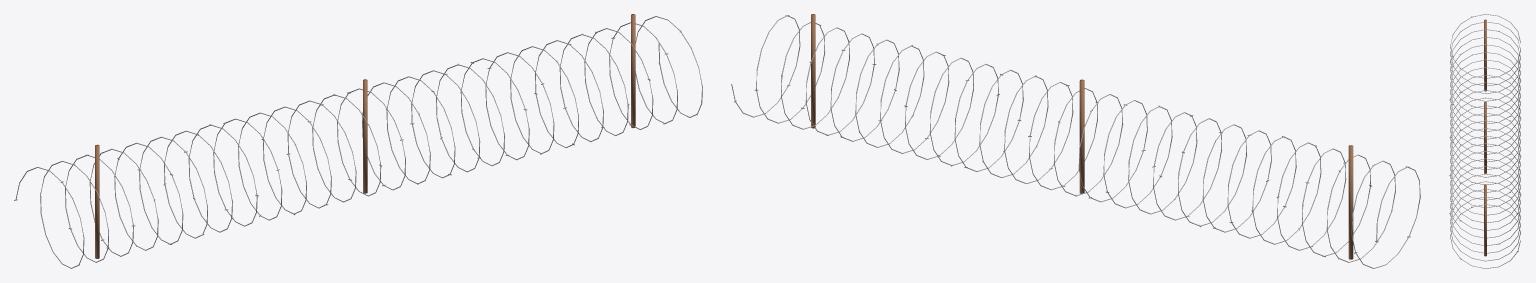
Rendered from SM_Concertina.fbx.
3 views of the same model, side by side, from view 1: azimuth 30°, elevation 25°; view 2: azimuth 150°, elevation 25°; view 3: azimuth 270°, elevation 25° (orthographic). The views are drawn at different scales.
Visible parts, largest first — view 1: SM_Concertina; view 2: SM_Concertina; view 3: SM_Concertina.
Part boxes in pixels (left/top/right/bottom): SM_Concertina: left=14, top=14, right=702, bottom=268; SM_Concertina: left=731, top=14, right=1420, bottom=268; SM_Concertina: left=1449, top=14, right=1521, bottom=268.
Bounding box in the file's own units: 6.02 × 1 × 0.9305.
